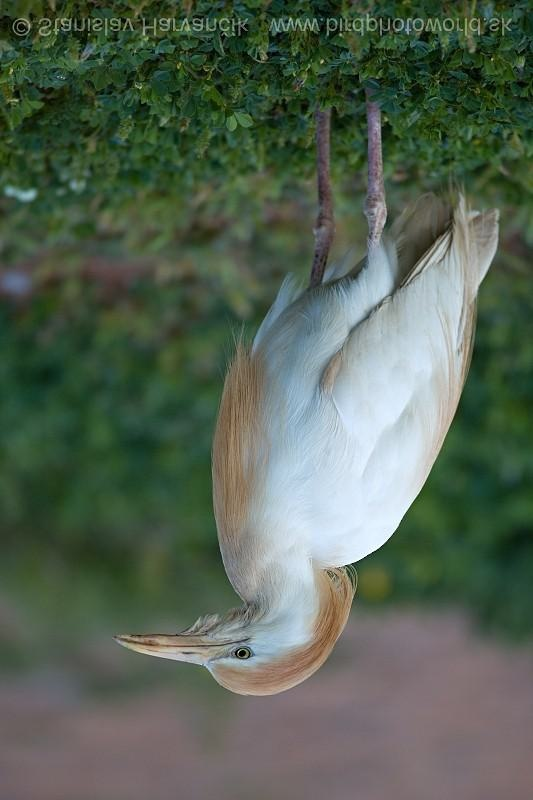egret: (131, 178, 528, 711)
